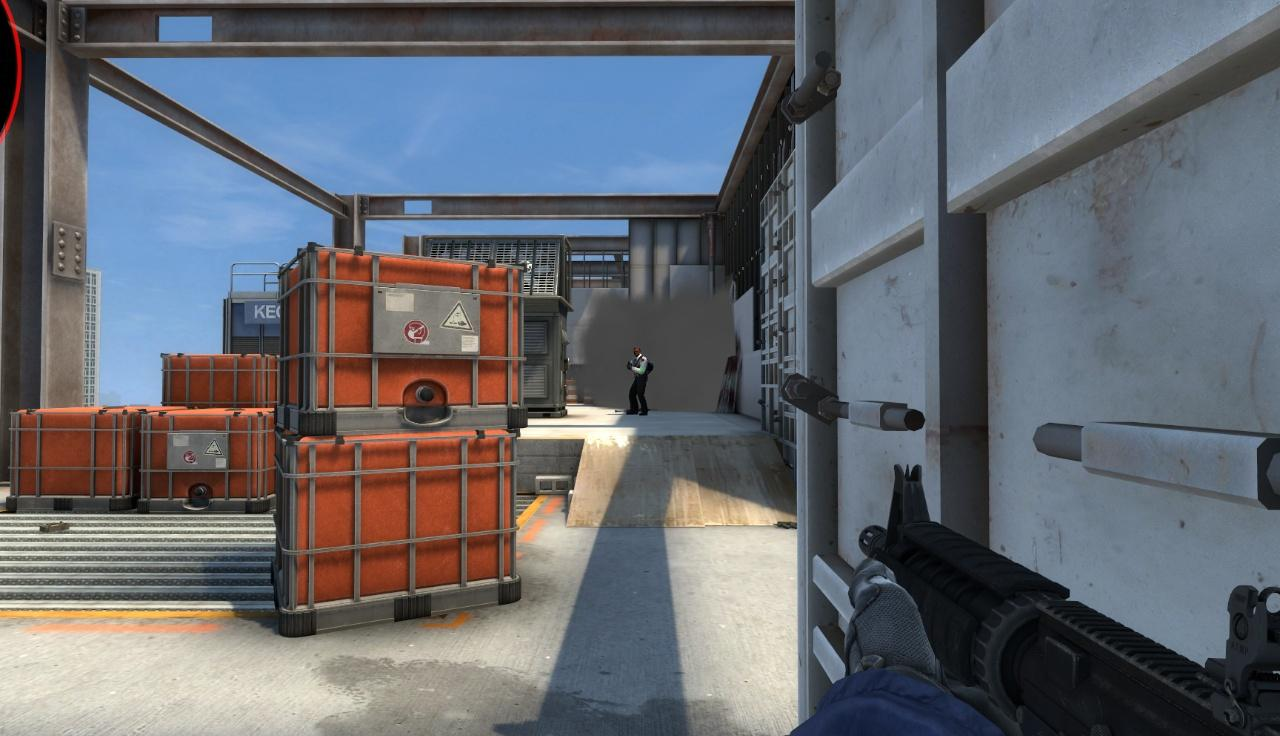rifle: (831, 453, 1280, 736)
tt: (626, 347, 650, 417)
tthead: (633, 347, 641, 357)
